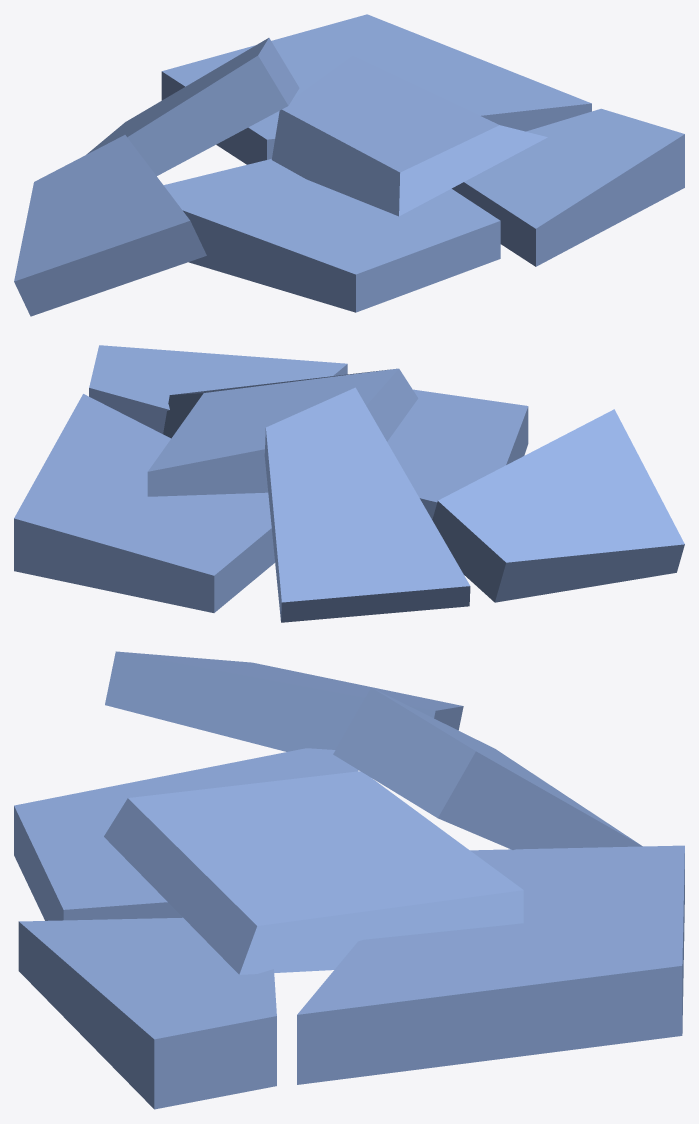
Rendered from IronOre.gltf.
The picture shows the model from 3 angles, top to bottom: view 1: azimuth 30°, elevation 25°; view 2: azimuth 150°, elevation 25°; view 3: azimuth 270°, elevation 25°; orthographic projection. The views are drawn at different scales.
Parts seen in each view (by area): view 1: Cube; view 2: Cube; view 3: Cube.
Part boxes in pixels (x1,y1,x2,y2): Cube: (14, 14, 684, 316); Cube: (14, 345, 684, 622); Cube: (14, 651, 684, 1109).
Bounding box in the file's own units: 0.945 × 0.2376 × 0.6638.
